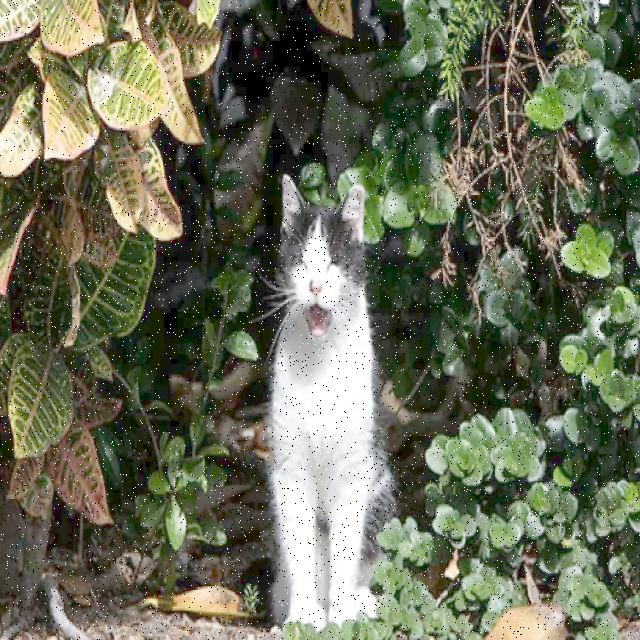cat: (270, 175, 392, 628)
